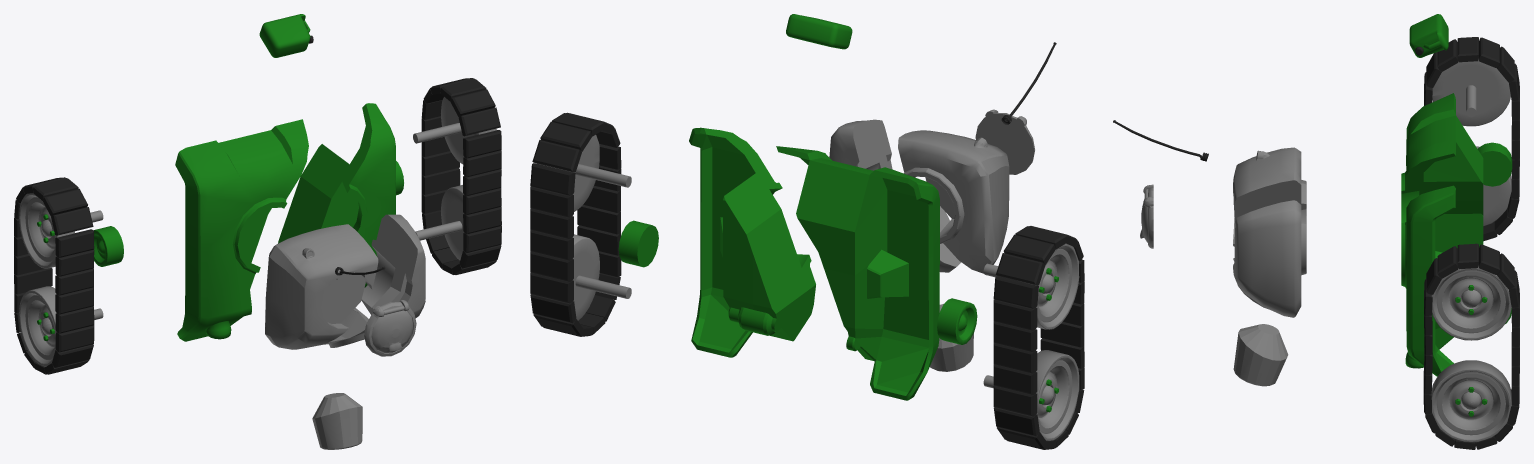
File: Tank_parts_1.fbx
3 renders of one model, left to right at view 1: azimuth 30°, elevation 25°; view 2: azimuth 150°, elevation 25°; view 3: azimuth 270°, elevation 25°, orthographic. The views are drawn at different scales.
Visible parts, largest first — view 1: TankChassis_14, TankTracksLeft_18, Object_5, TankTracksLeft_9, TankChassis_6, chassis_parts, Object_8, barrel, hatch, TankChassis, TankChassis_5, Object_7; view 2: TankChassis_14, TankChassis_6, TankTracksLeft_18, TankTracksLeft_9, Object_5, chassis_parts, Object_8, hatch, TankChassis_12, TankChassis, TankChassis_4, TankChassis_5 (+2 smaller); view 3: chassis_parts, TankChassis_6, Object_8, TankChassis_14, TankTracksLeft_18, TankTracksLeft_9, Object_5, barrel, TankChassis, TankChassis_5, hatch.
Boxes of the visible parts, x1,y1,x2,y2 form: TankChassis_14: (175, 119, 308, 341); TankTracksLeft_18: (421, 78, 501, 274); Object_5: (265, 224, 378, 349); TankTracksLeft_9: (14, 177, 94, 374); TankChassis_6: (278, 103, 395, 287); chassis_parts: (19, 97, 496, 366); Object_8: (361, 214, 425, 318); barrel: (312, 393, 362, 449); hatch: (364, 300, 416, 356); TankChassis: (259, 14, 310, 57); TankChassis_5: (94, 226, 123, 266); Object_7: (324, 308, 368, 347); TankChassis_14: (776, 146, 939, 400); TankChassis_6: (689, 127, 815, 357); TankTracksLeft_18: (530, 112, 621, 336); TankTracksLeft_9: (993, 226, 1084, 449); Object_5: (898, 130, 1009, 273); chassis_parts: (539, 135, 1079, 440); Object_8: (829, 119, 892, 170); hatch: (975, 109, 1034, 174); TankChassis_12: (867, 249, 908, 298); TankChassis: (786, 14, 852, 49); TankChassis_4: (618, 220, 658, 267); TankChassis_5: (937, 298, 977, 344); chassis_parts: (1431, 59, 1511, 442); TankChassis_6: (1401, 185, 1483, 376); Object_8: (1233, 200, 1306, 317); TankChassis_14: (1401, 93, 1483, 222); TankTracksLeft_18: (1423, 243, 1519, 449); TankTracksLeft_9: (1424, 37, 1519, 241); Object_5: (1233, 147, 1306, 246); barrel: (1233, 324, 1288, 386); TankChassis: (1409, 14, 1448, 57); TankChassis_5: (1478, 142, 1512, 186); hatch: (1140, 184, 1153, 248).
Size of the model in its own units: 531 by 412 by 407.
